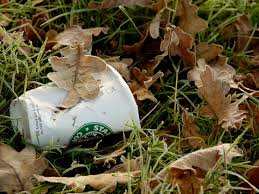paper_cup: (10, 61, 141, 150)
